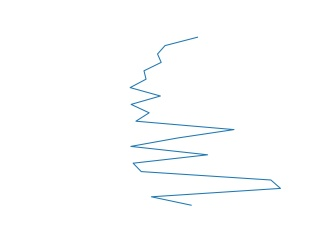crevasseRiverBedLagDeposit: (126, 33, 284, 211)
